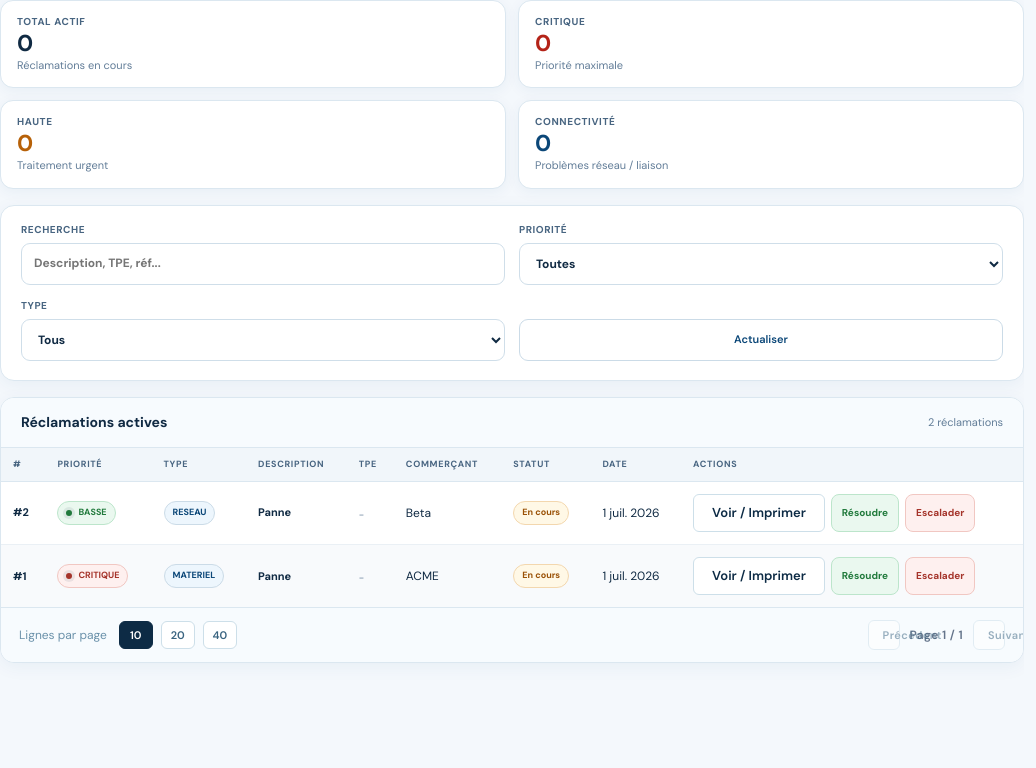
BackofficeReclamationsPage › filtre par priorite et par type de probleme
Select "Critique" in the dropdown labelled "Priorité" at (761, 264), box [519,243,1003,285]
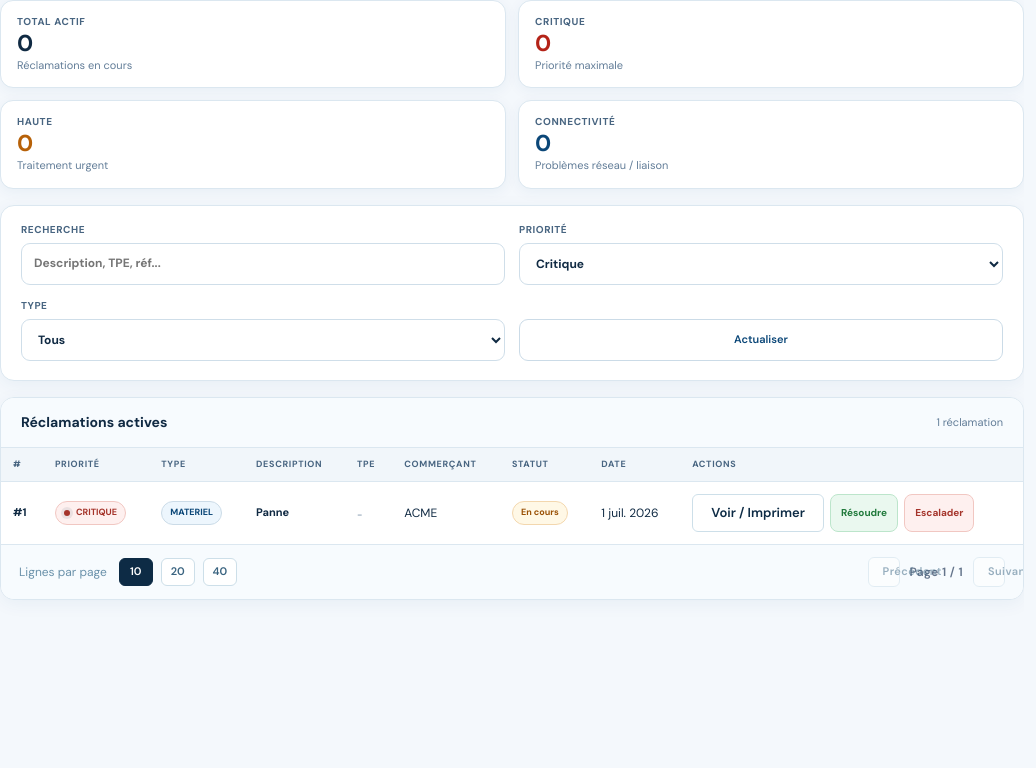
Check: the text "ACME" is shown, box [392,482,500,544]
Check: the text "Beta" is gone
Select "Toutes" in the dropdown labelled "Priorité" at (761, 264), box [519,243,1003,285]
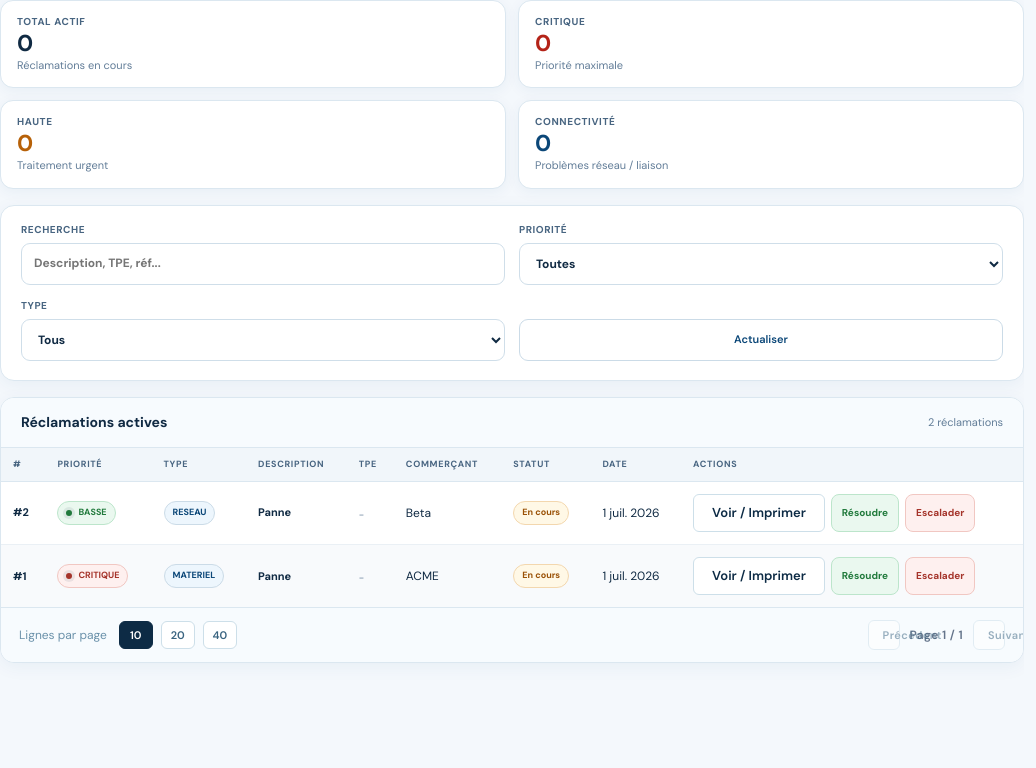
Select "Réseau" in the dropdown labelled "Type" at (263, 340), box [21,319,505,361]
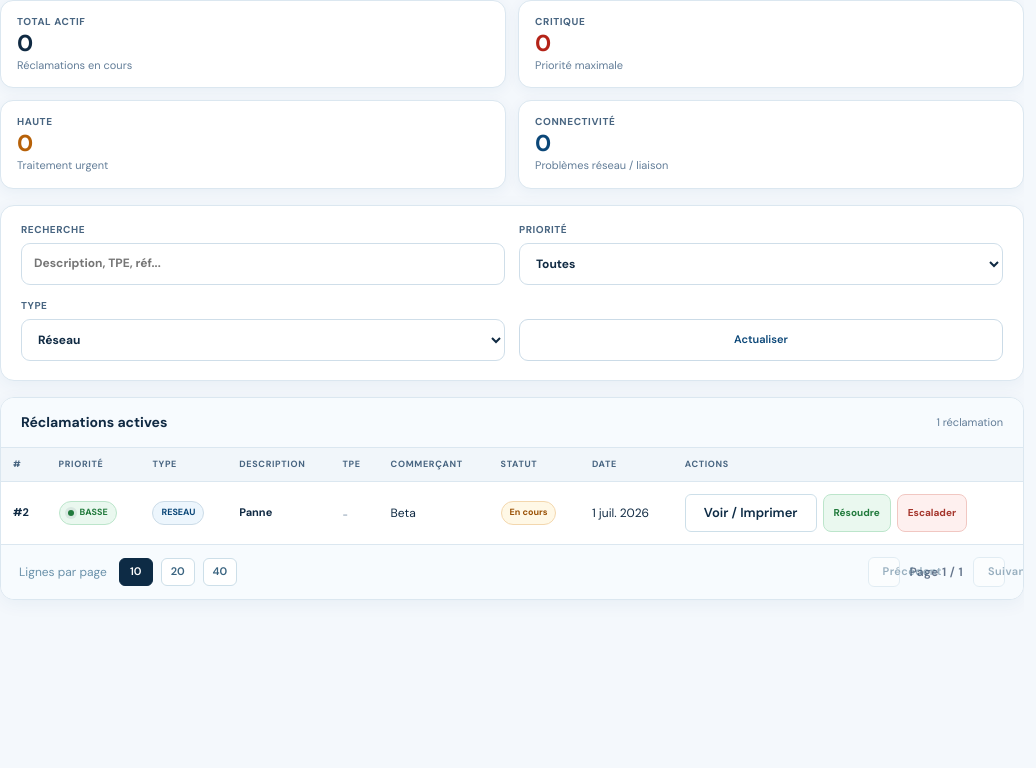
Check: the text "Beta" is shown, box [379,482,489,544]
Check: the text "ACME" is gone
